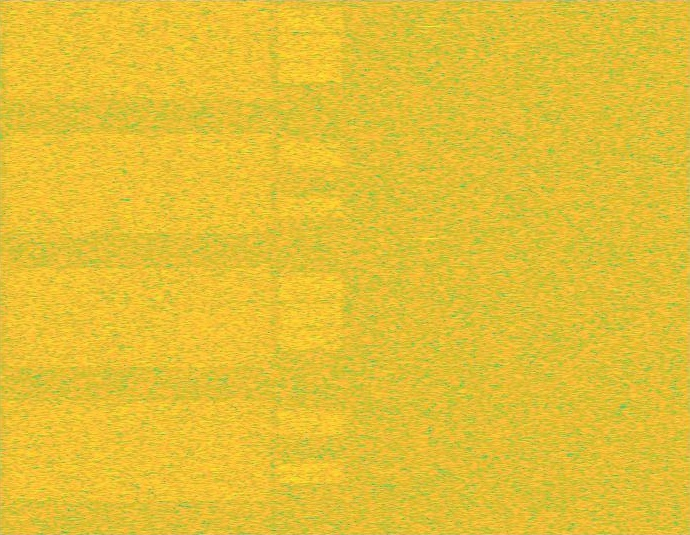5G: (0, 0, 276, 534)
LTE: (276, 0, 345, 534)
Radar: (423, 0, 437, 534)
